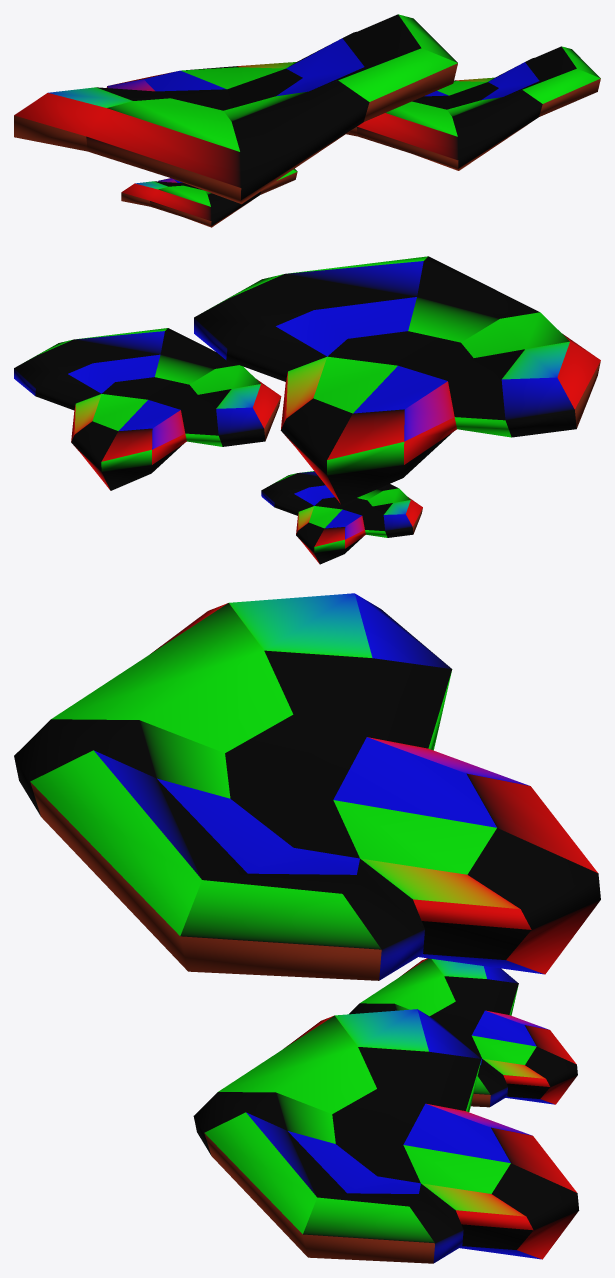
Rendered from SM_GanodermaGRP.FBX.
3 renders of one model, top to bottom at view 1: azimuth 30°, elevation 25°; view 2: azimuth 150°, elevation 25°; view 3: azimuth 270°, elevation 25°, orthographic. The views are drawn at different scales.
Parts seen in each view (by area): view 1: GanodermaGRP; view 2: GanodermaGRP; view 3: GanodermaGRP.
Part boxes in pixels (bbox=[...]): GanodermaGRP: bbox=[14, 14, 600, 227]; GanodermaGRP: bbox=[14, 256, 600, 564]; GanodermaGRP: bbox=[14, 593, 600, 1263].
Bounding box in the file's own units: 83.66 × 30 × 42.57.
